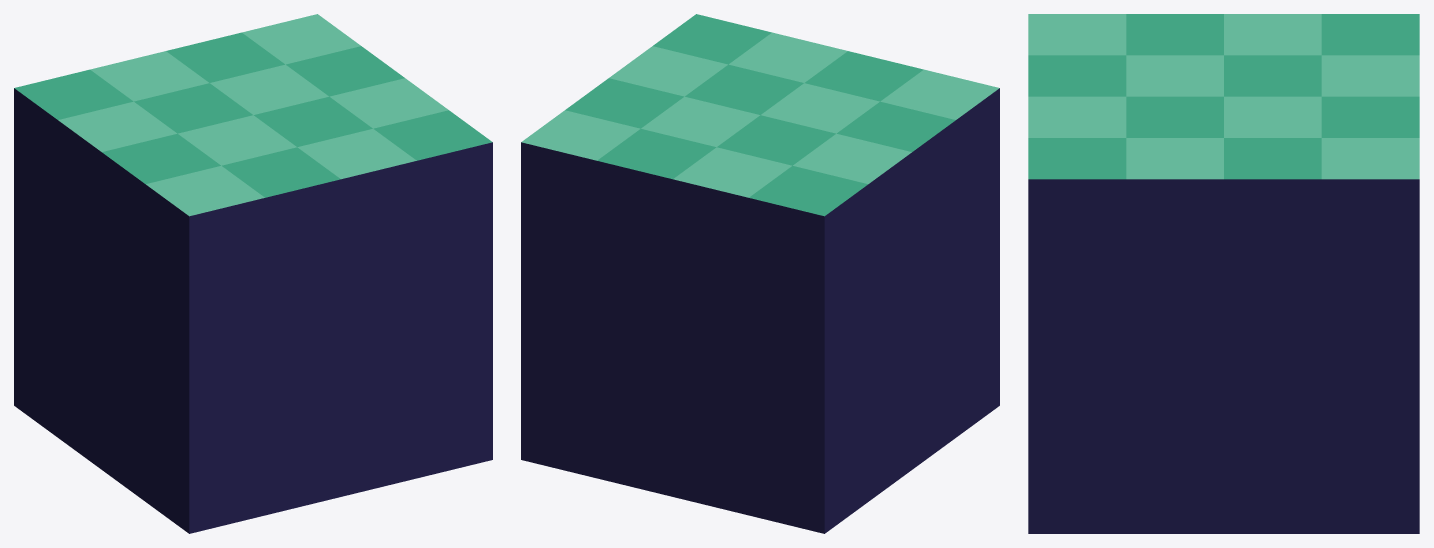
File: box_mint.glb
3 renders of one model, left to right at view 1: azimuth 30°, elevation 25°; view 2: azimuth 150°, elevation 25°; view 3: azimuth 270°, elevation 25°, orthographic. The views are drawn at different scales.
Parts seen in each view (by area): view 1: Body; view 2: Body; view 3: Body.
Part boxes in pixels (x1,y1,x2,y2): Body: (14, 14, 492, 533); Body: (521, 14, 999, 533); Body: (1028, 14, 1419, 533).
Bounding box in the file's own units: 1 × 1 × 1.
